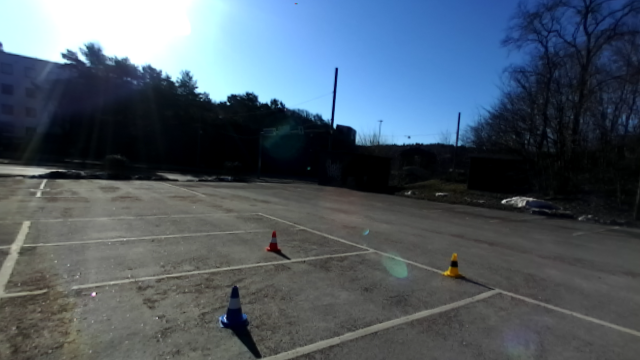blue: (218, 286, 250, 327)
orange: (265, 230, 279, 252)
yellow: (441, 254, 461, 279)
